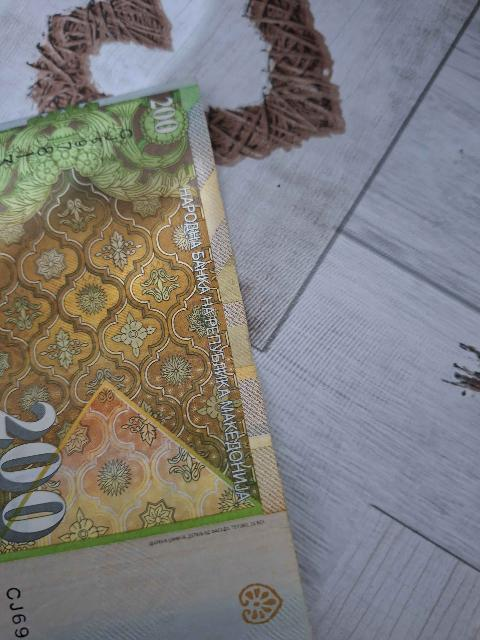200_note: (0, 83, 309, 639)
